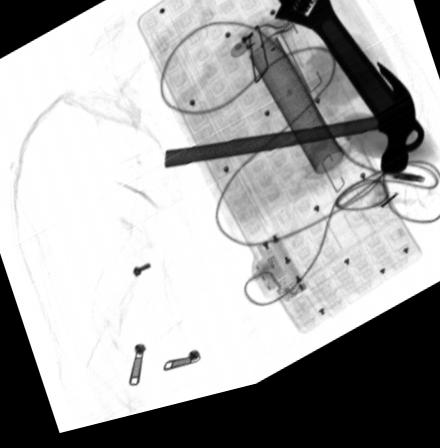Hammer: (163, 78, 415, 193)
Wrench: (269, 0, 424, 174)
